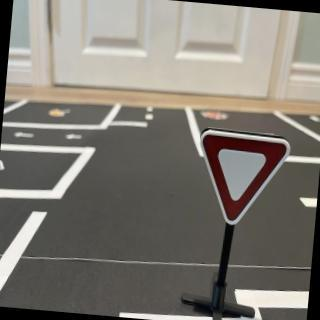road_oneway: (62, 131, 86, 145), (12, 130, 38, 141)
sign_yield: (195, 129, 293, 232)
